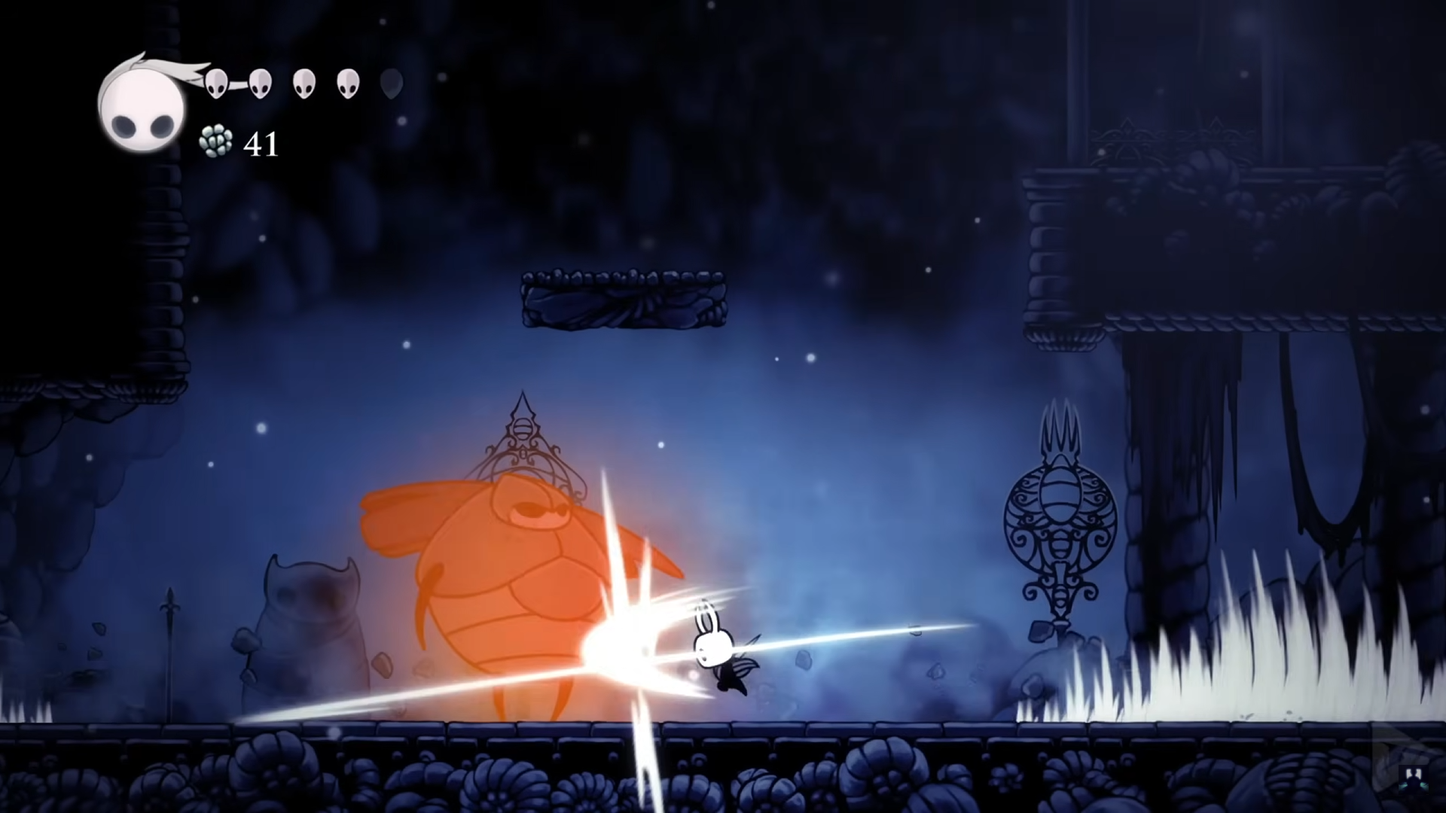HK: (689, 601, 751, 705)
